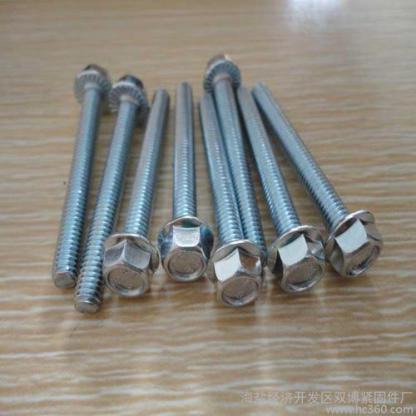FOD: (250, 83, 384, 278), (237, 86, 326, 296), (72, 74, 145, 314), (196, 90, 267, 309), (100, 88, 170, 302), (50, 63, 112, 289), (202, 54, 266, 257), (158, 80, 215, 284)
